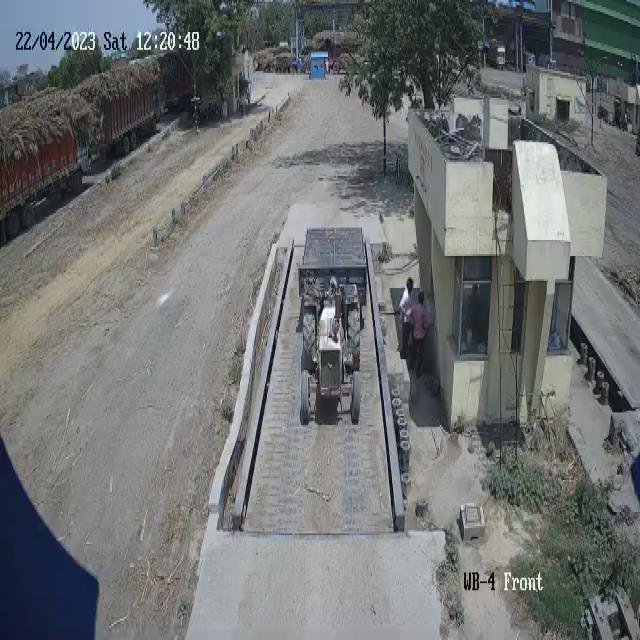Tratores - v5 YOLO V8L 2024-11-13: (298, 283, 366, 438)
